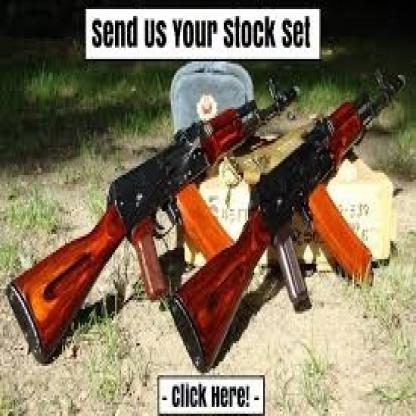Gun: (0, 57, 324, 362), (153, 59, 412, 400)
